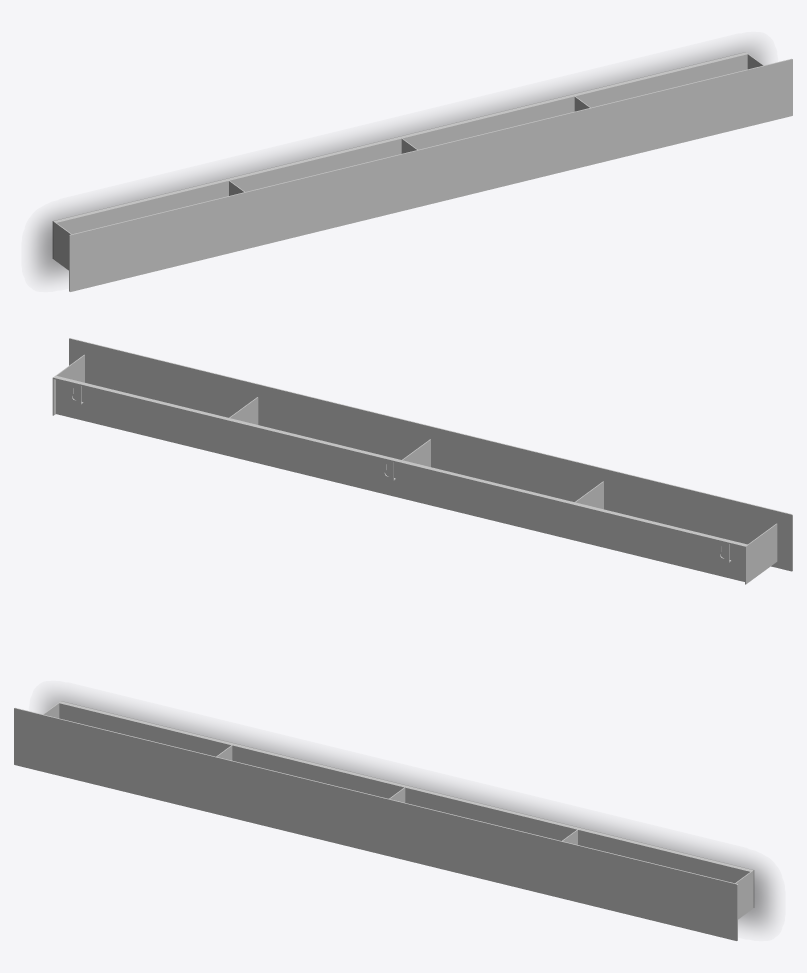
Rendered from skyline-mono.8b4d21ebdc.ar.glb.
The picture shows the model from 3 angles, top to bottom: view 1: azimuth 30°, elevation 25°; view 2: azimuth 150°, elevation 25°; view 3: azimuth 330°, elevation 25°; orthographic projection.
Parts seen in each view (by area): view 1: NAUO1, object 2; view 2: NAUO1; view 3: NAUO1, object 2.
Part boxes in pixels (box(x1,y1,x2,y2)): NAUO1: box(52, 52, 792, 291); object 2: box(33, 45, 765, 278); NAUO1: box(52, 338, 792, 584); NAUO1: box(14, 701, 754, 940); object 2: box(41, 694, 773, 927).
Bounding box in the file's own units: 1.28 × 0.17 × 0.092.
2 materials, 1 textured.
